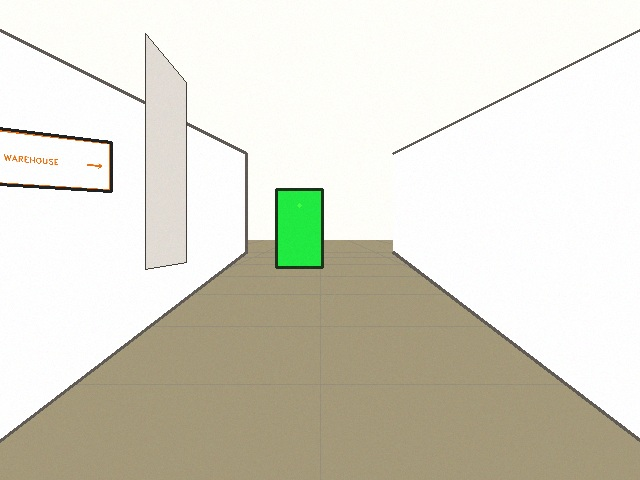charging_station: (276, 189, 322, 267)
directional_sign: (0, 128, 111, 191)
